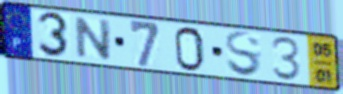0: (172, 25, 207, 73)
3: (34, 11, 74, 60), (270, 35, 303, 82)
7: (128, 18, 163, 70)
N: (74, 15, 114, 62)
S: (223, 30, 264, 79)
